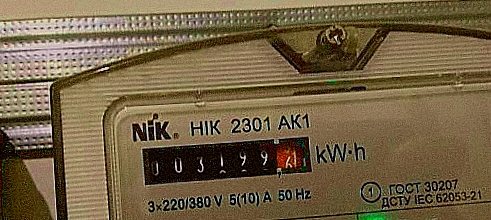0: (171, 155, 184, 175), (149, 158, 159, 176)
1: (215, 150, 225, 168)
3: (193, 154, 205, 174)
6: (282, 154, 292, 168)
9: (236, 147, 247, 168), (258, 148, 269, 167)
screen: (133, 127, 318, 192)
